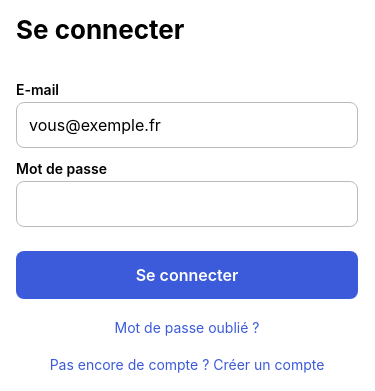
it: Inscription (mobile) › affiche « Un compte existe déjà avec cet e-mail » sur 409
The width and height of the screenshot is (375, 391).
Click the link with test id "to-register": (187, 364) top-left (50, 356), bottom-right (324, 372)
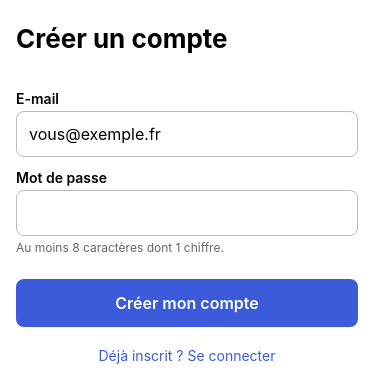
Expected: the heading "Créer un compte" is shown, top-left (16, 22), bottom-right (228, 54)
In the field with test id "email": (187, 134) top-left (16, 110), bottom-right (358, 156), type "alice@example.com"
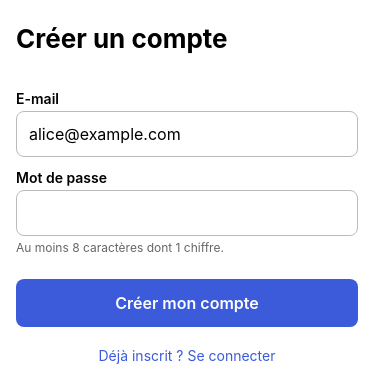
In the password field with test id "password": (187, 212) top-left (16, 190), bottom-right (358, 236), type "motdepasse1"
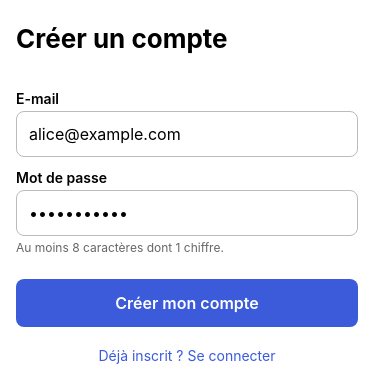
Click the button with test id "submit": (187, 302) top-left (16, 278), bottom-right (358, 326)
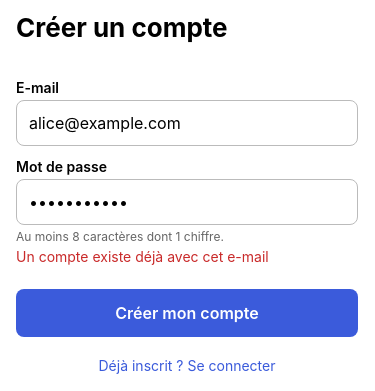
Expected: the message with test id "server-error" reads "Un compte existe déjà avec cet e-mail", top-left (16, 248), bottom-right (269, 265)
